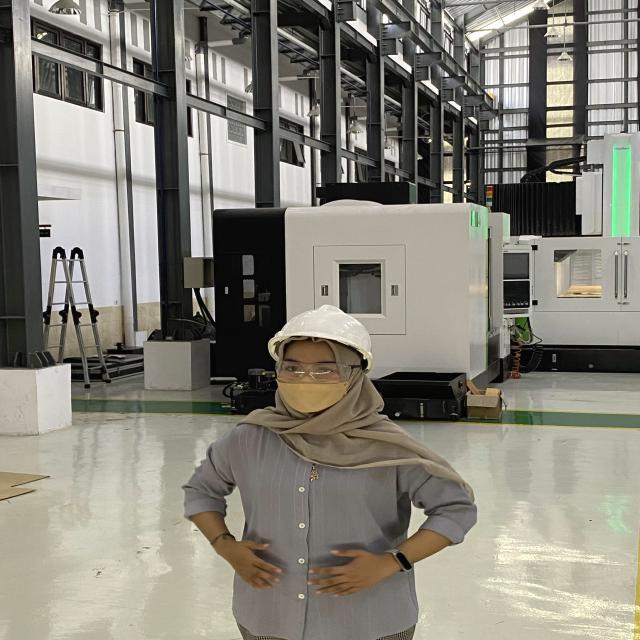face_mask: (272, 359, 356, 415)
glasses: (271, 358, 364, 384)
hand_noglove: (304, 541, 391, 604), (224, 536, 289, 596)
head_helmet: (267, 303, 379, 355)
person: (179, 307, 475, 640)
